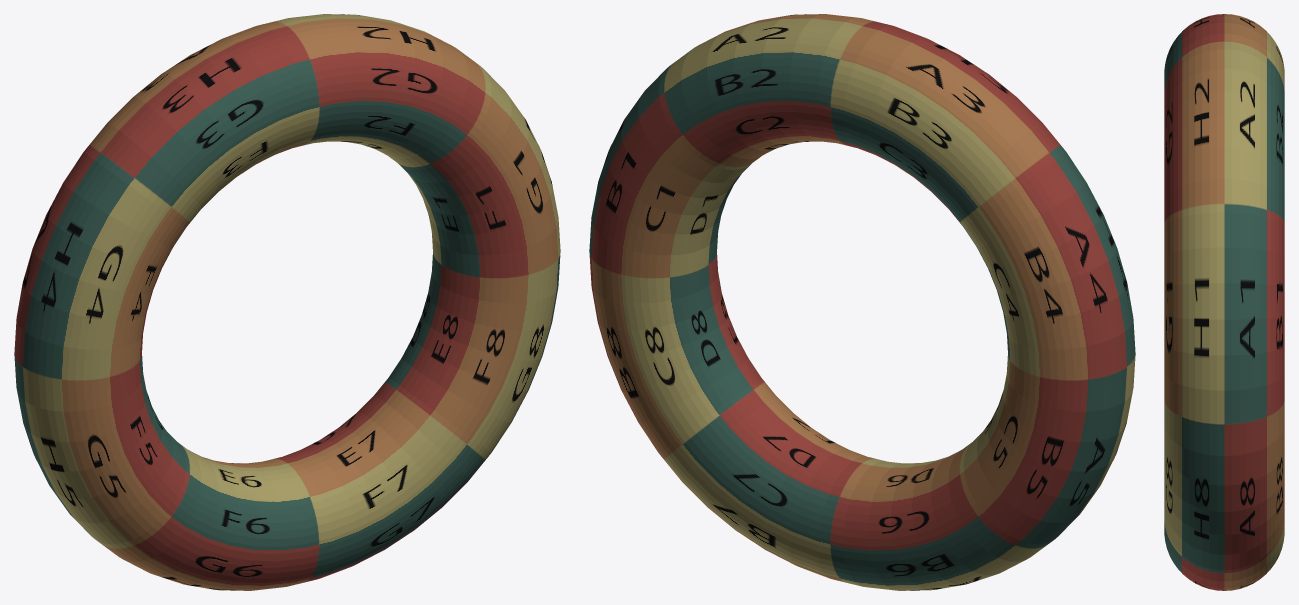
The model's file is texture_torus_R10_r9.glb.
3 renders of one model, left to right at view 1: azimuth 30°, elevation 25°; view 2: azimuth 150°, elevation 25°; view 3: azimuth 270°, elevation 25°, orthographic. The views are drawn at different scales.
Parts seen in each view (by area): view 1: world; view 2: world; view 3: world.
Part boxes in pixels (x1,y1,x2,y2): world: [14, 14, 560, 590]; world: [589, 14, 1135, 590]; world: [1164, 14, 1284, 590].
Bounding box in the file's own units: 21.07 × 21.03 × 4.39.
Materials: 1 (1 with a texture image).
